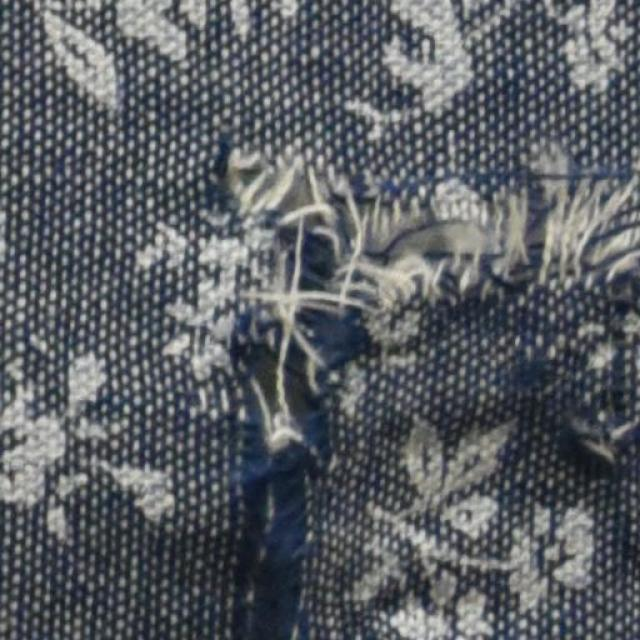Snag: (235, 145, 637, 408), (197, 416, 328, 639), (568, 401, 639, 472)
